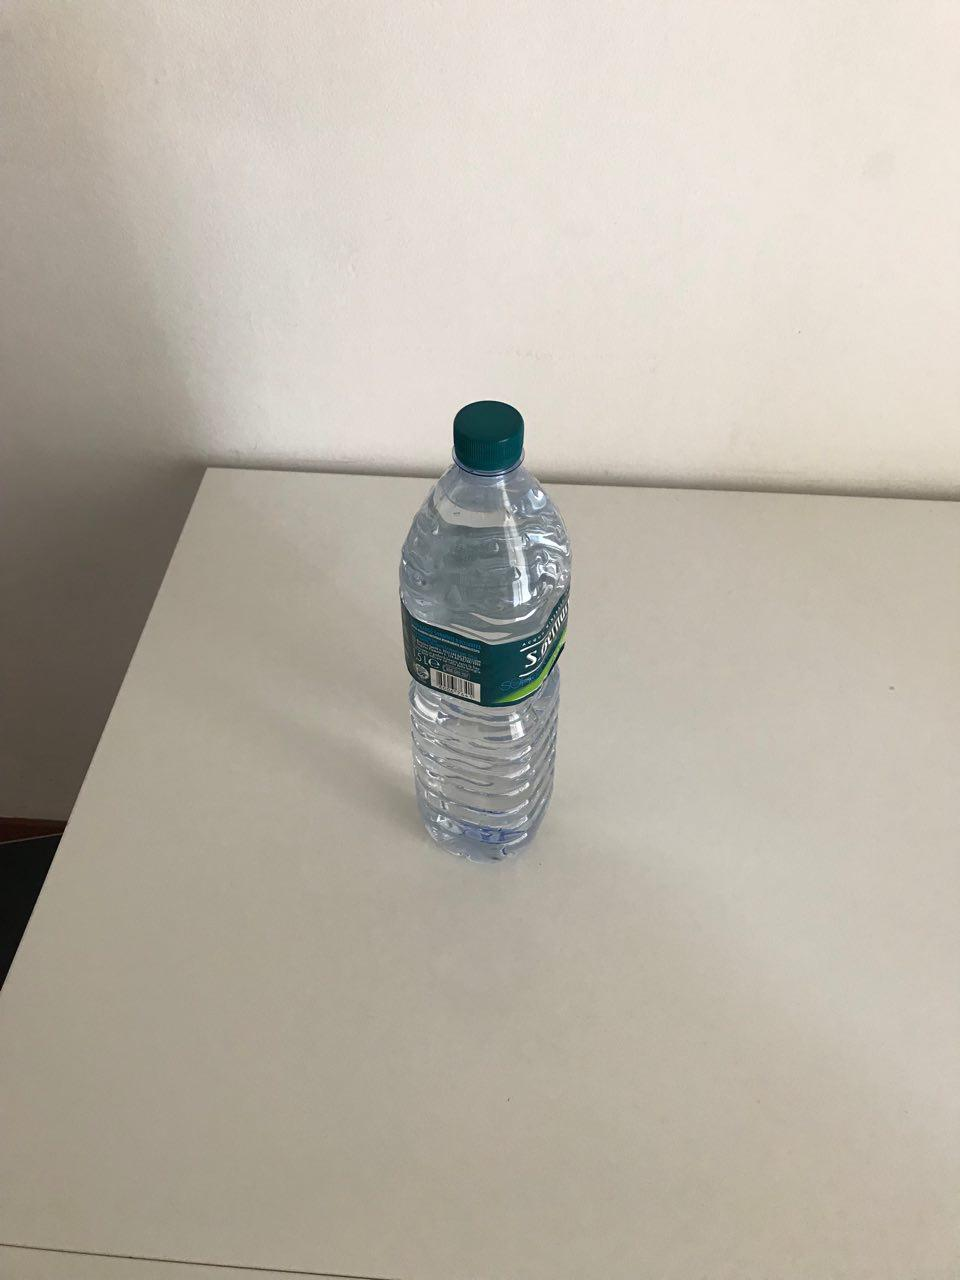san_bernardo: (395, 398, 573, 866)
